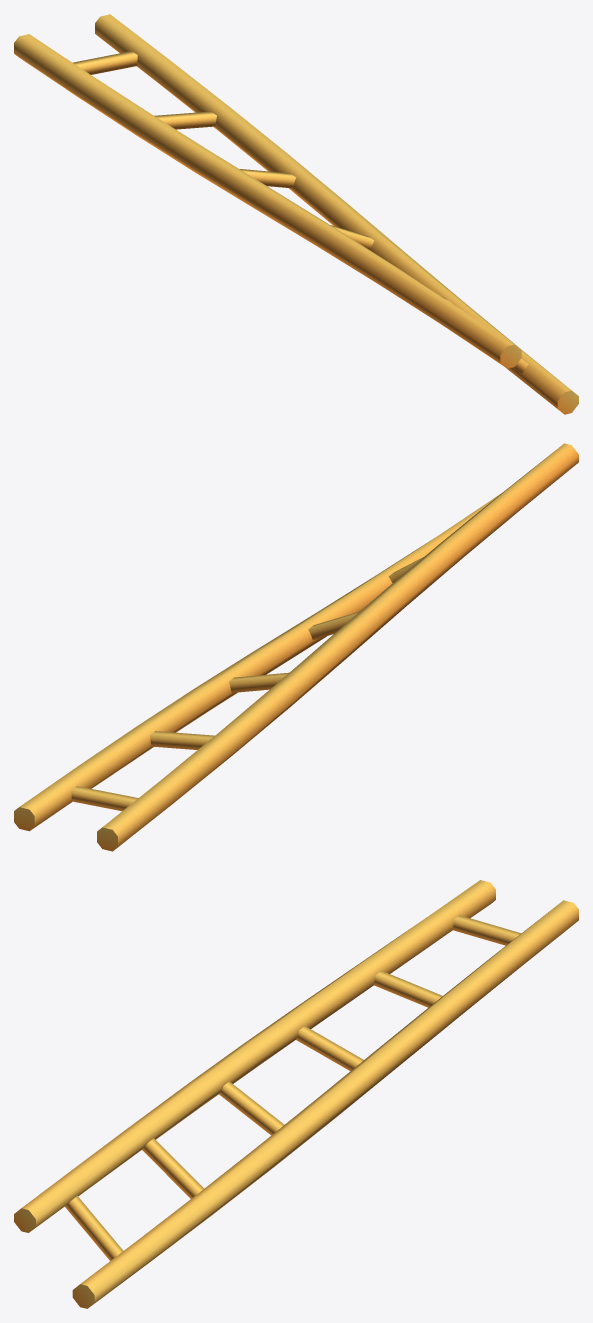
The model's file is coaster-mouse-straight-skew-left.glb.
3 views of the same model, one above another, from view 1: azimuth 30°, elevation 25°; view 2: azimuth 150°, elevation 25°; view 3: azimuth 330°, elevation 25° (orthographic). The views are drawn at different scales.
Visible parts, largest first — view 1: coaster-mouse-straight-skew-left; view 2: coaster-mouse-straight-skew-left; view 3: coaster-mouse-straight-skew-left.
Boxes of the visible parts, left/top/right/bottom form: coaster-mouse-straight-skew-left: left=14, top=14, right=578, bottom=414; coaster-mouse-straight-skew-left: left=14, top=443, right=578, bottom=851; coaster-mouse-straight-skew-left: left=14, top=880, right=578, bottom=1308.
Size of the model in its own units: 1.53 by 1.17 by 12.
Materials: 1 (1 with a texture image).
